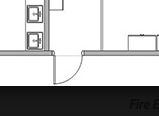door: (51, 48, 87, 85)
